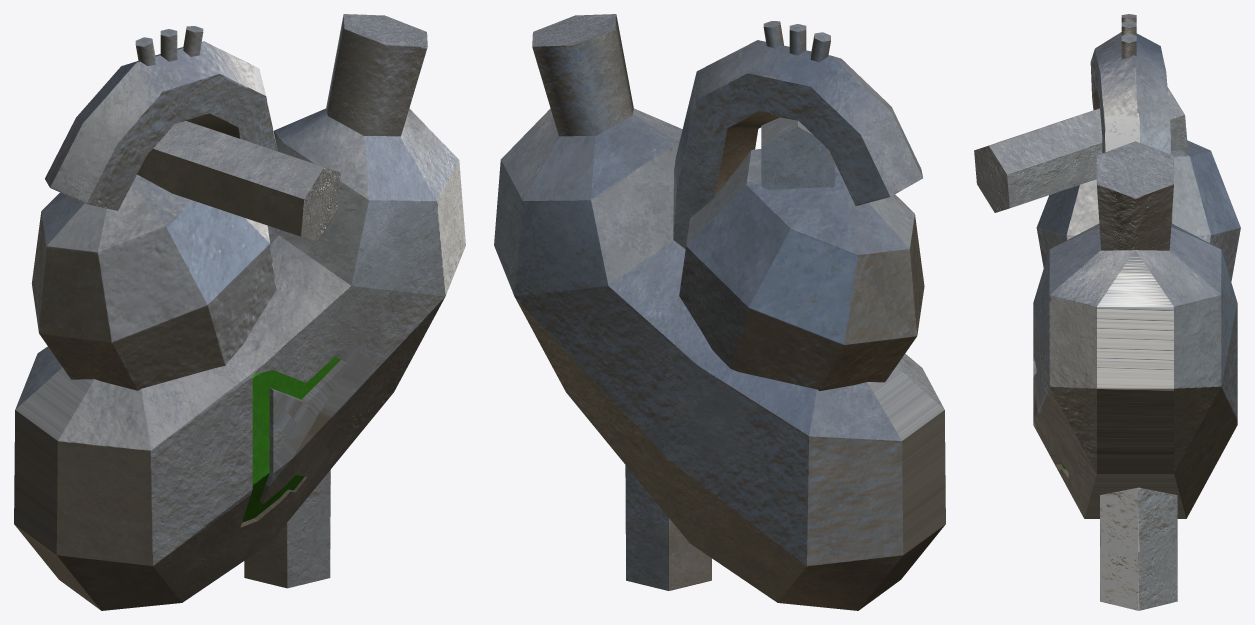
File: Dash_Hermóðr.fbx
3 views of the same model, side by side, from view 1: azimuth 30°, elevation 25°; view 2: azimuth 150°, elevation 25°; view 3: azimuth 270°, elevation 25° (orthographic). The views are drawn at different scales.
Visible parts, largest first — view 1: Roll_Heimdall's Precognition; view 2: Roll_Heimdall's Precognition; view 3: Roll_Heimdall's Precognition.
Part boxes in pixels (box(x1,y1,x2,y2)): Roll_Heimdall's Precognition: box(14, 14, 465, 610); Roll_Heimdall's Precognition: box(494, 14, 945, 610); Roll_Heimdall's Precognition: box(974, 14, 1240, 610).
Size of the model in its own units: 53.96 by 71.63 by 33.77.
Materials: 1 (1 with a texture image).
